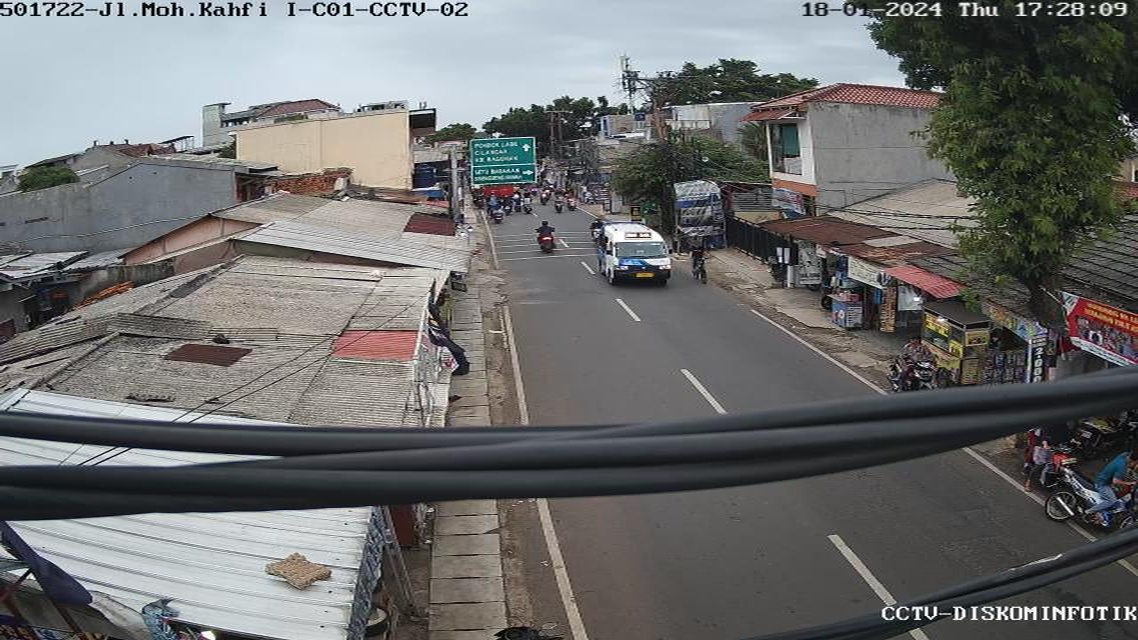Gerobak: (912, 286, 994, 384), (823, 276, 868, 334)
